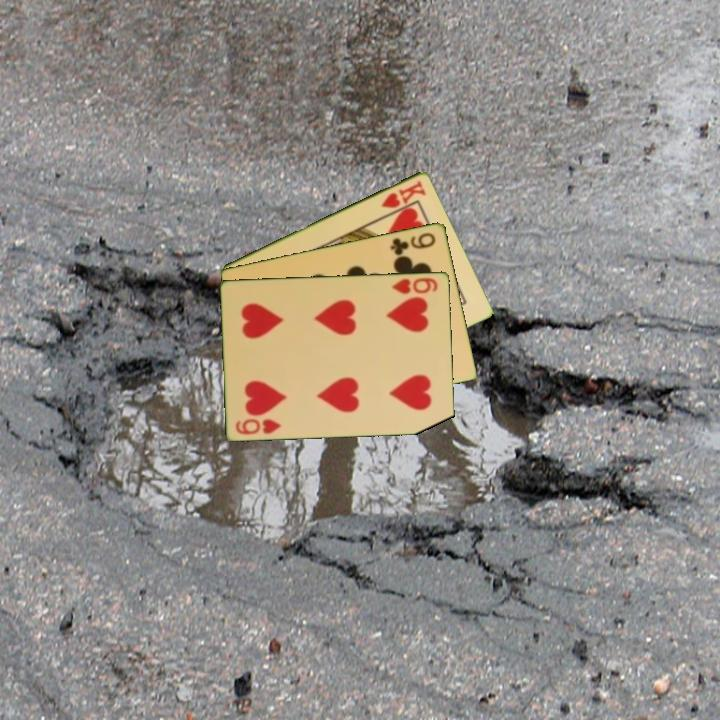6h: (388, 274, 441, 296), (232, 415, 284, 437)
9c: (387, 228, 438, 257)
Kh: (378, 176, 429, 211)
